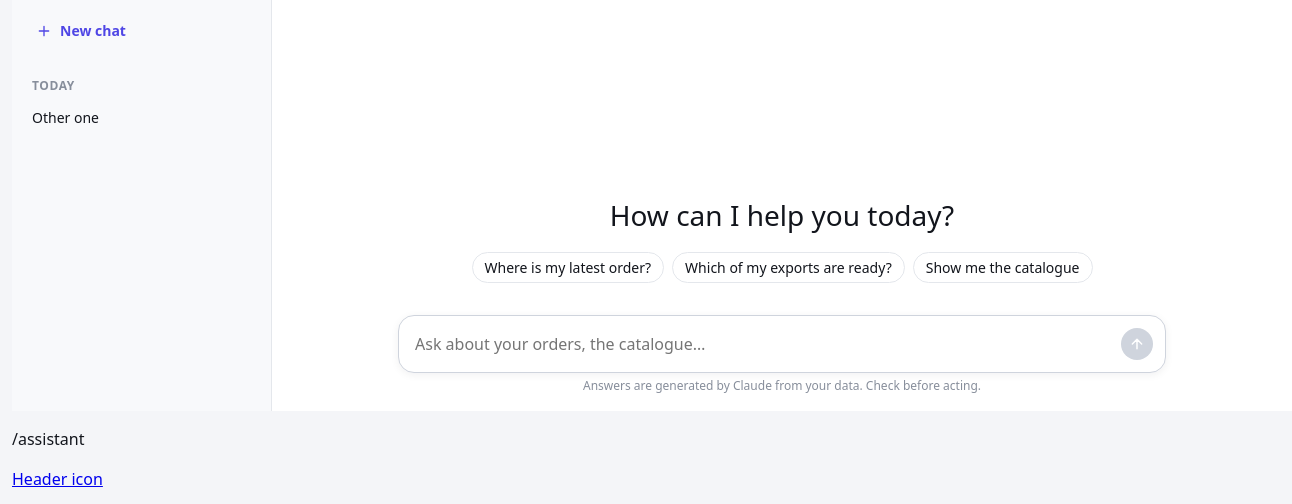
Scenario: AssistantPage › opens another conversation from the sidebar as a fresh chat
The image size is (1292, 504).
Type "First?" into the text box named "Your question". click: (764, 344)
box: left=415, top=328, right=1113, bottom=360
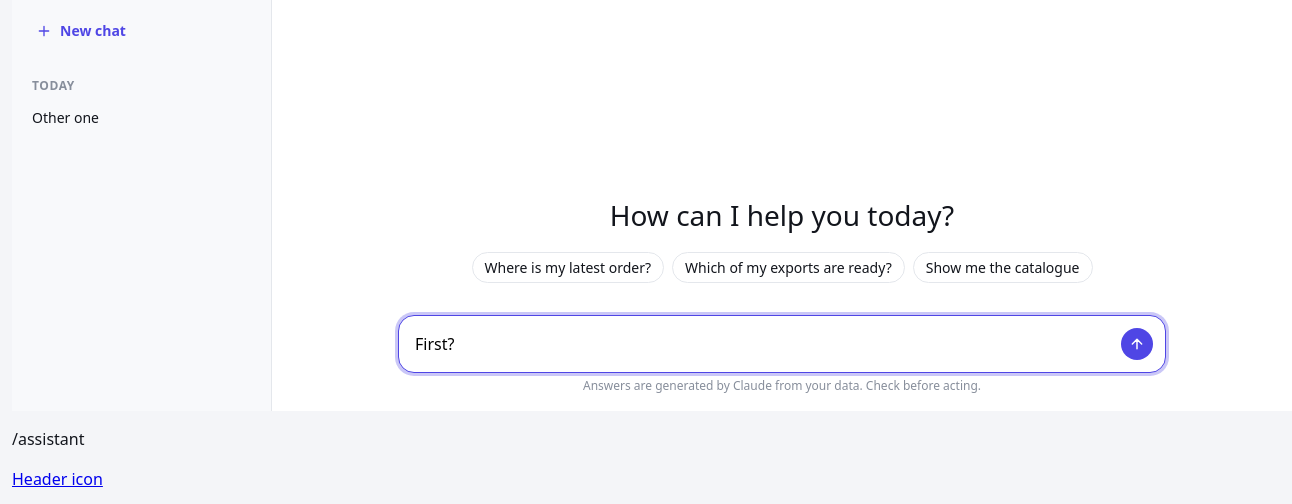
Click the button named "Send". click: (1137, 344)
box: left=1121, top=328, right=1153, bottom=360
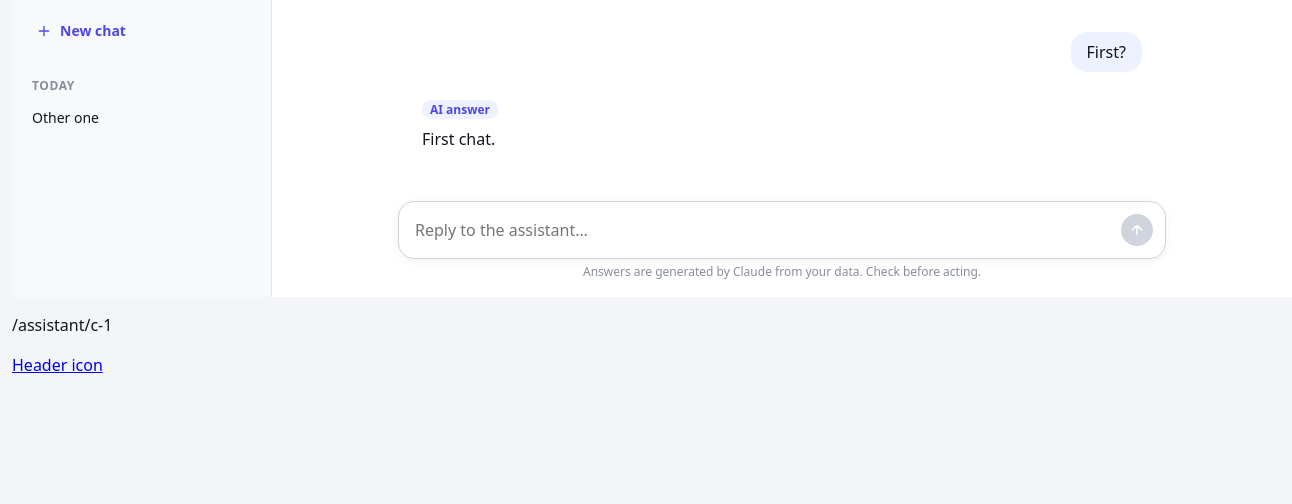
Result: the text "First chat." is shown at left=422, top=128, right=495, bottom=150
Click the link "Other one". click: (66, 118)
box: left=32, top=108, right=99, bottom=127
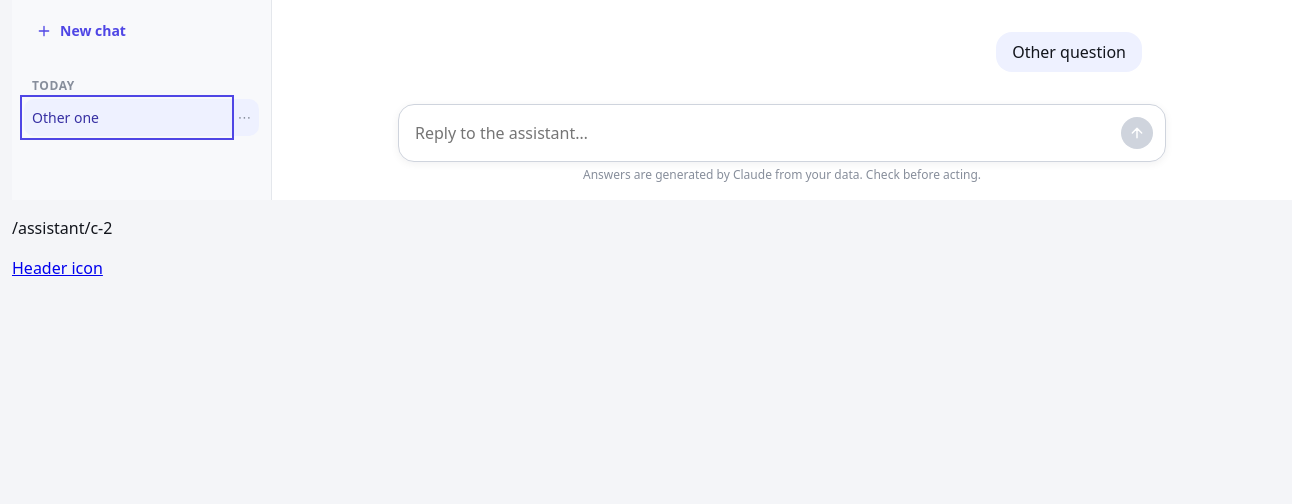
Result: the text "Other question" is shown at left=996, top=32, right=1142, bottom=72
Result: the text "First chat." is gone
